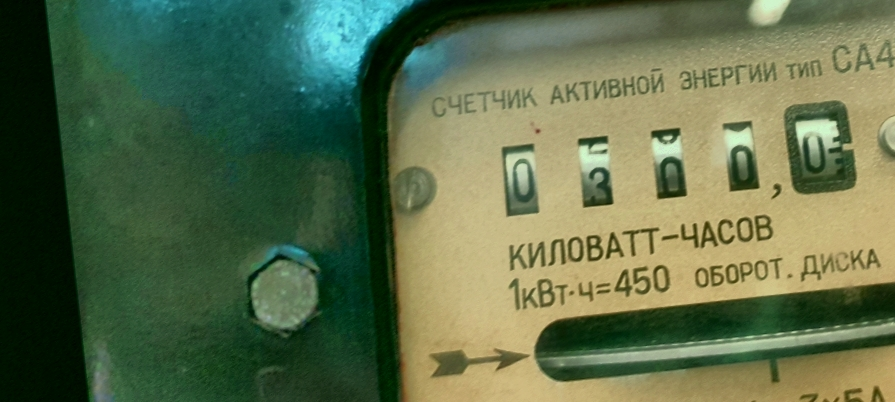0: (506, 153, 538, 206), (797, 127, 829, 178), (724, 141, 757, 190), (654, 151, 686, 201)
3: (582, 162, 614, 208)
screen: (477, 92, 866, 238)
